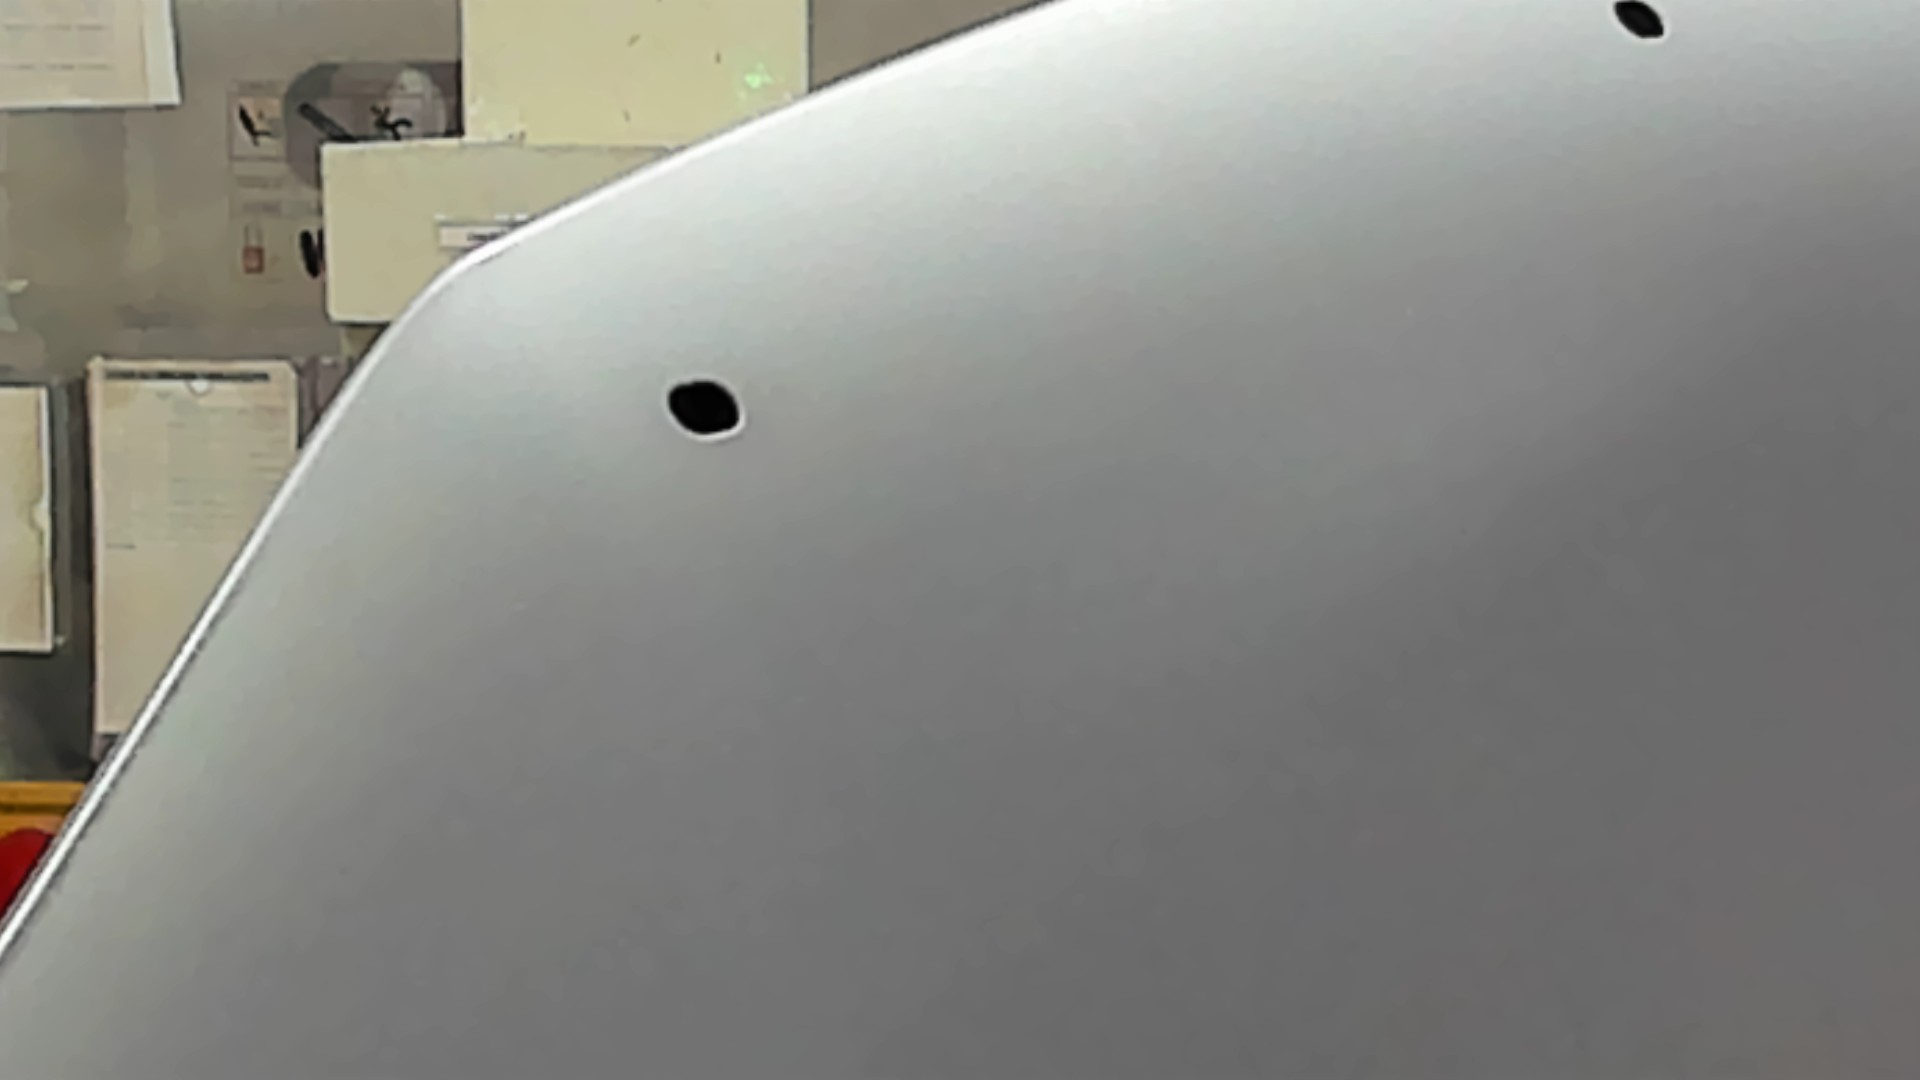chico: (657, 368, 761, 448), (1598, 1, 1677, 51)
